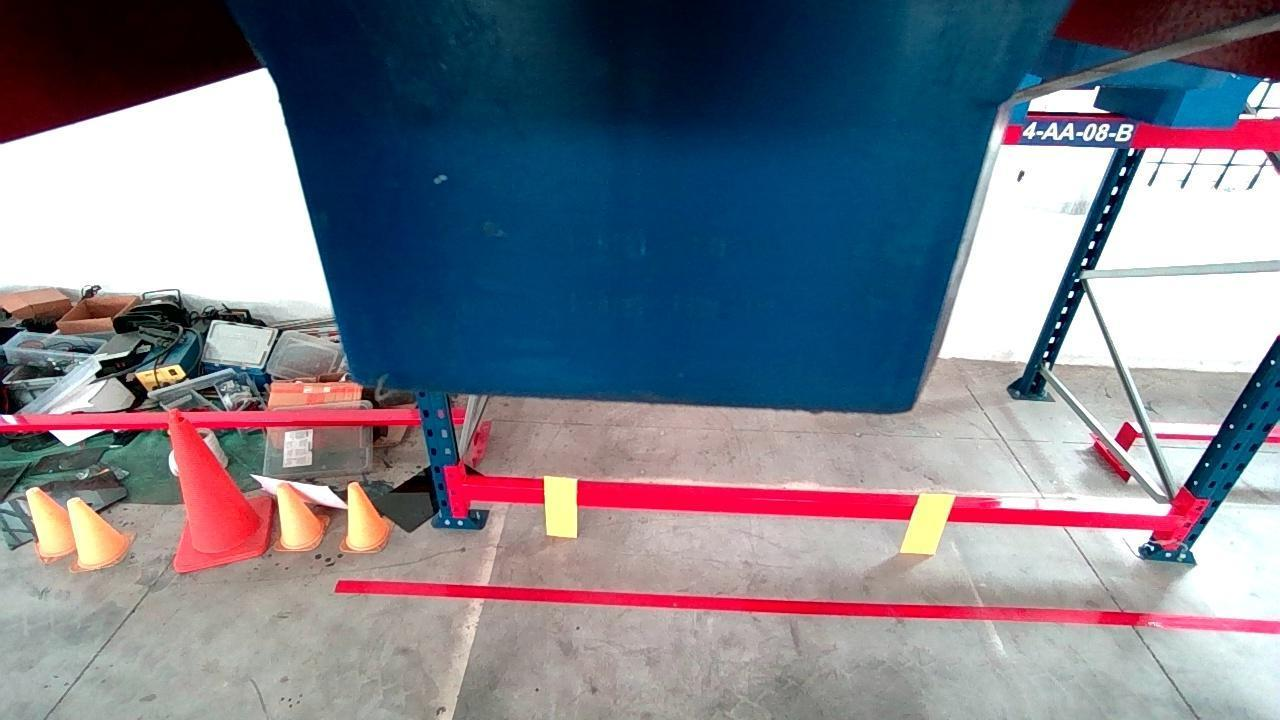h_rack: (462, 481, 1174, 533), (1006, 118, 1280, 151)
orange_strip: (903, 491, 958, 556), (544, 475, 577, 537)
red_line: (336, 578, 1280, 634)
